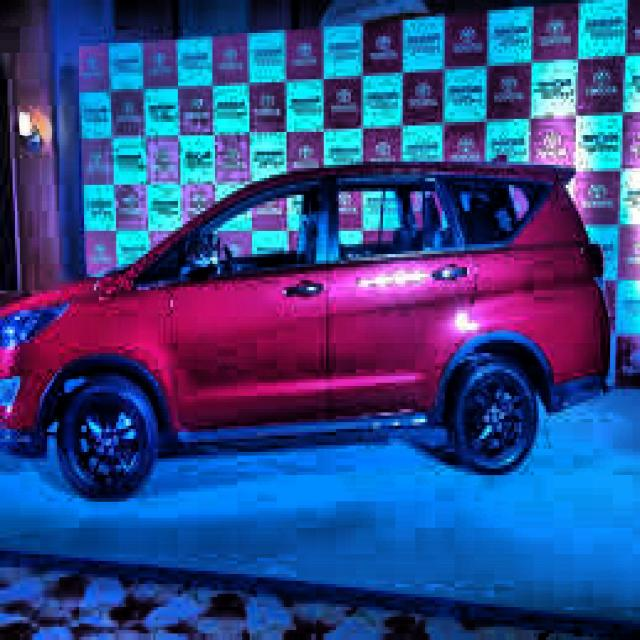light_vehicle: (0, 159, 611, 502)
